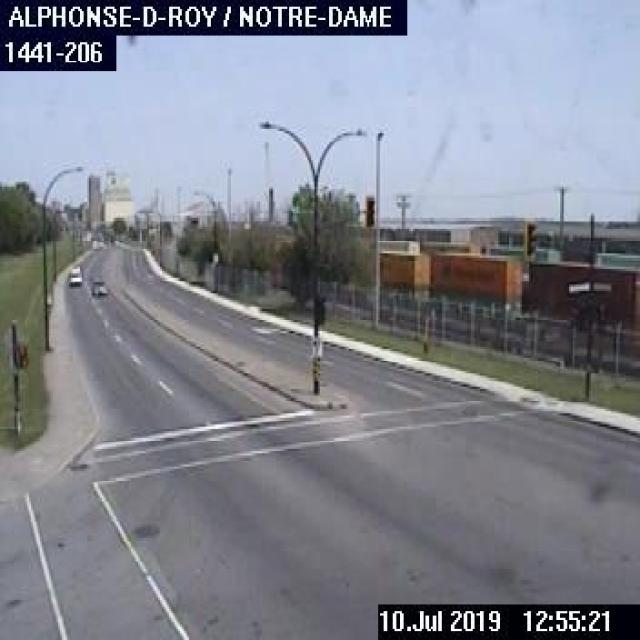vehicle: (68, 264, 82, 284), (90, 277, 105, 294)
